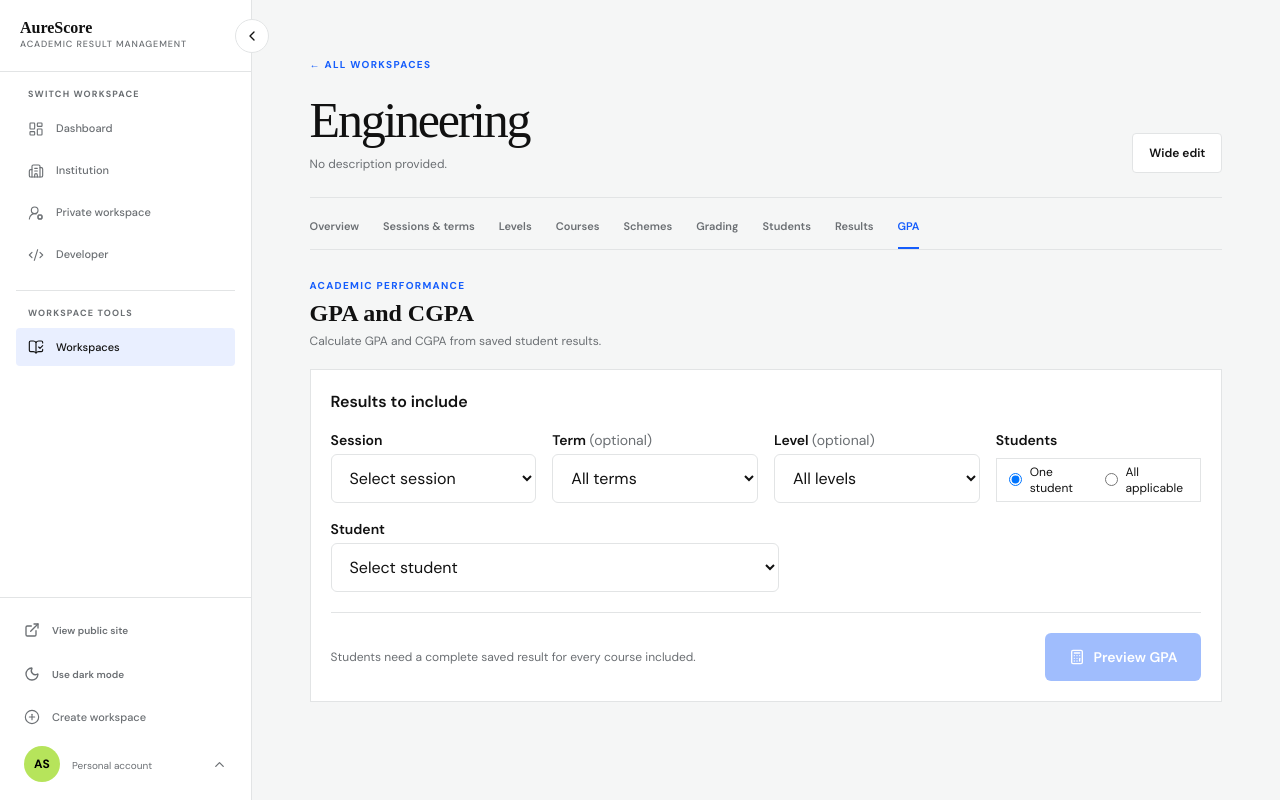
it: GPA workspace flow › handles a newly returned save preflight and a null-GPA no-results preview
The width and height of the screenshot is (1280, 800).
Step 1. Select "2026/2027" in the dropdown labelled "Session" → (433, 478), box [331,454,536,503]
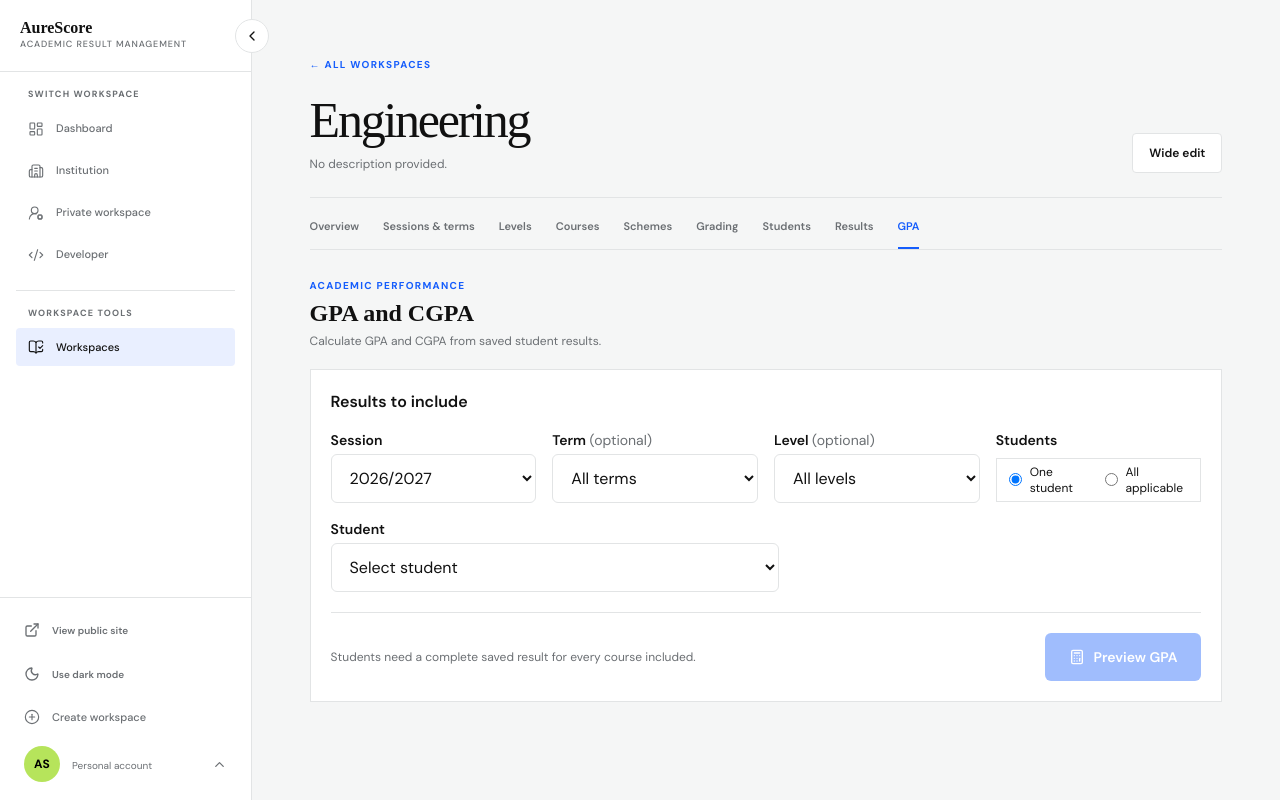
Step 2. Select "First Semester" in the dropdown labelled "Term (optional)" → (655, 478), box [552,454,758,503]
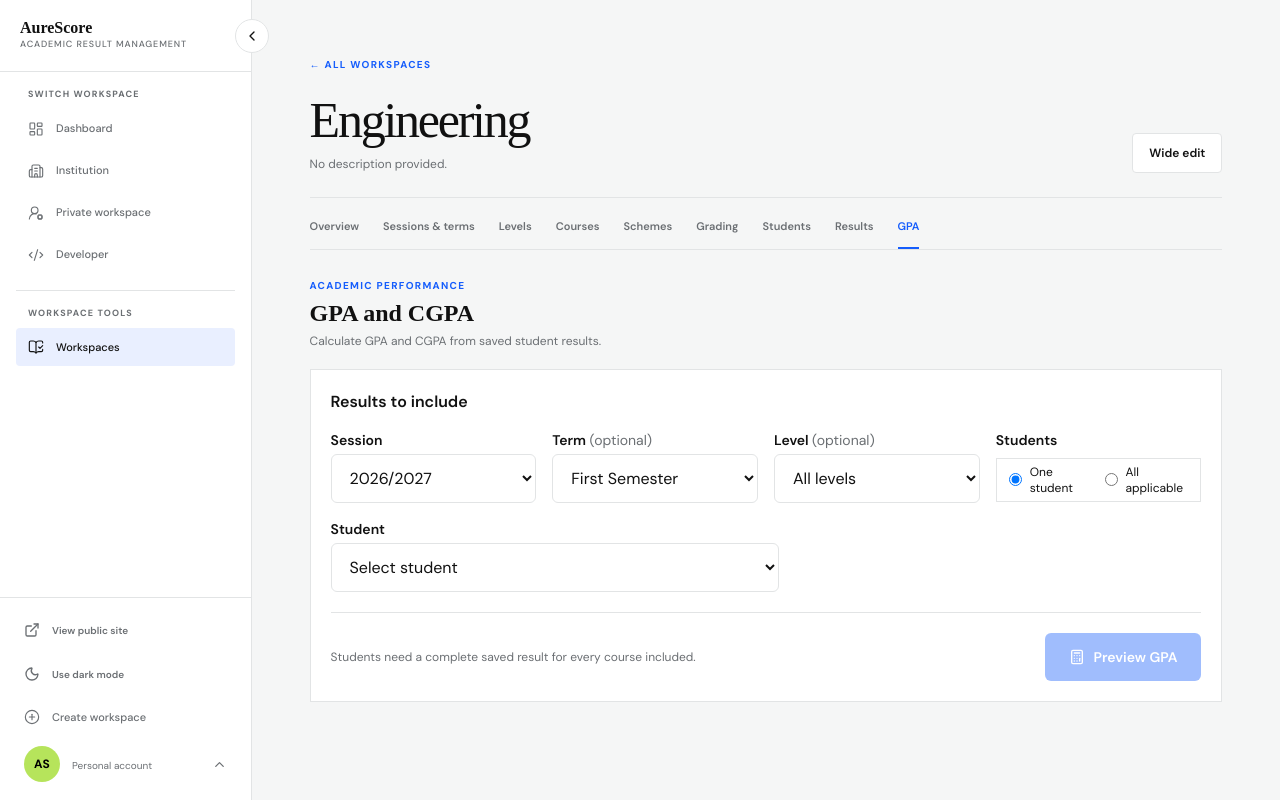
Step 3. Select "L400 — 400 Level" in the dropdown labelled "Level (optional)" → (877, 478), box [774,454,980,503]
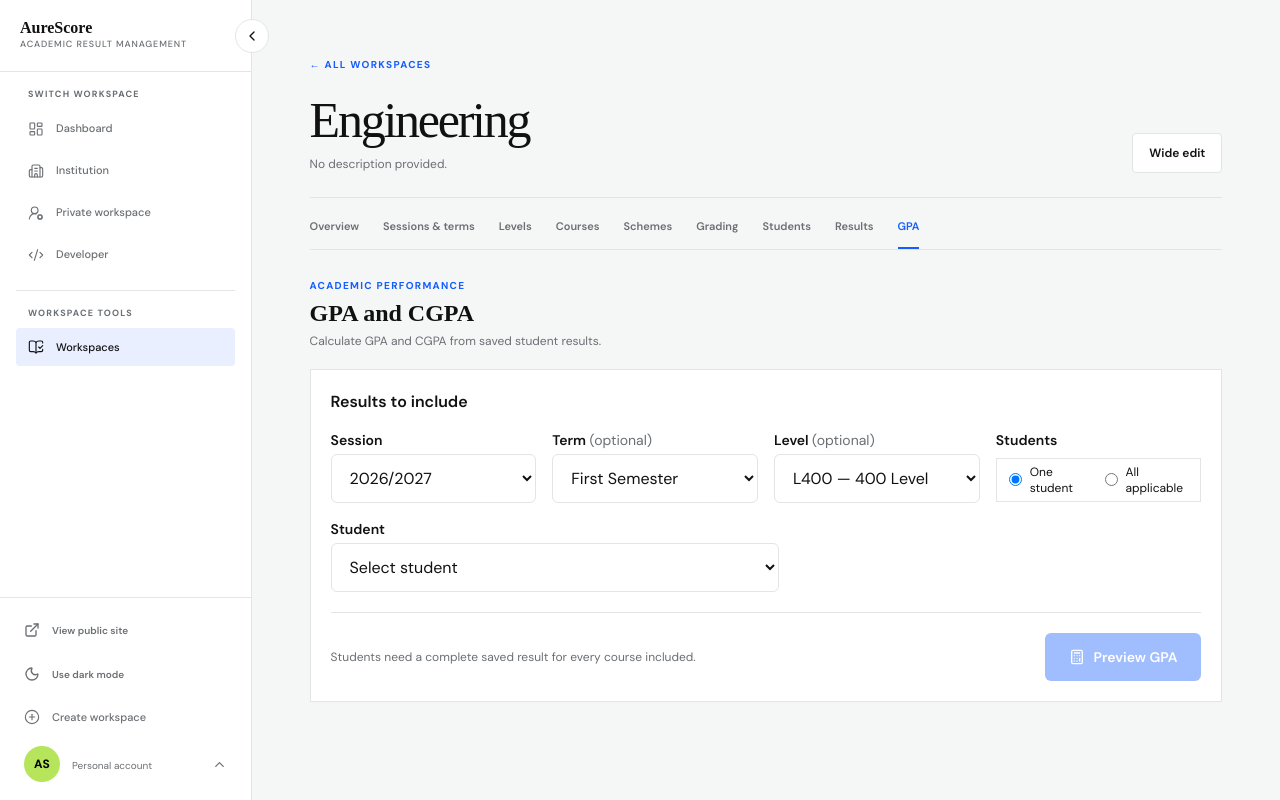
Step 4. Select "Ada Lovelace · ENG/001" in the dropdown labelled "Student" → (555, 567), box [331,543,779,592]
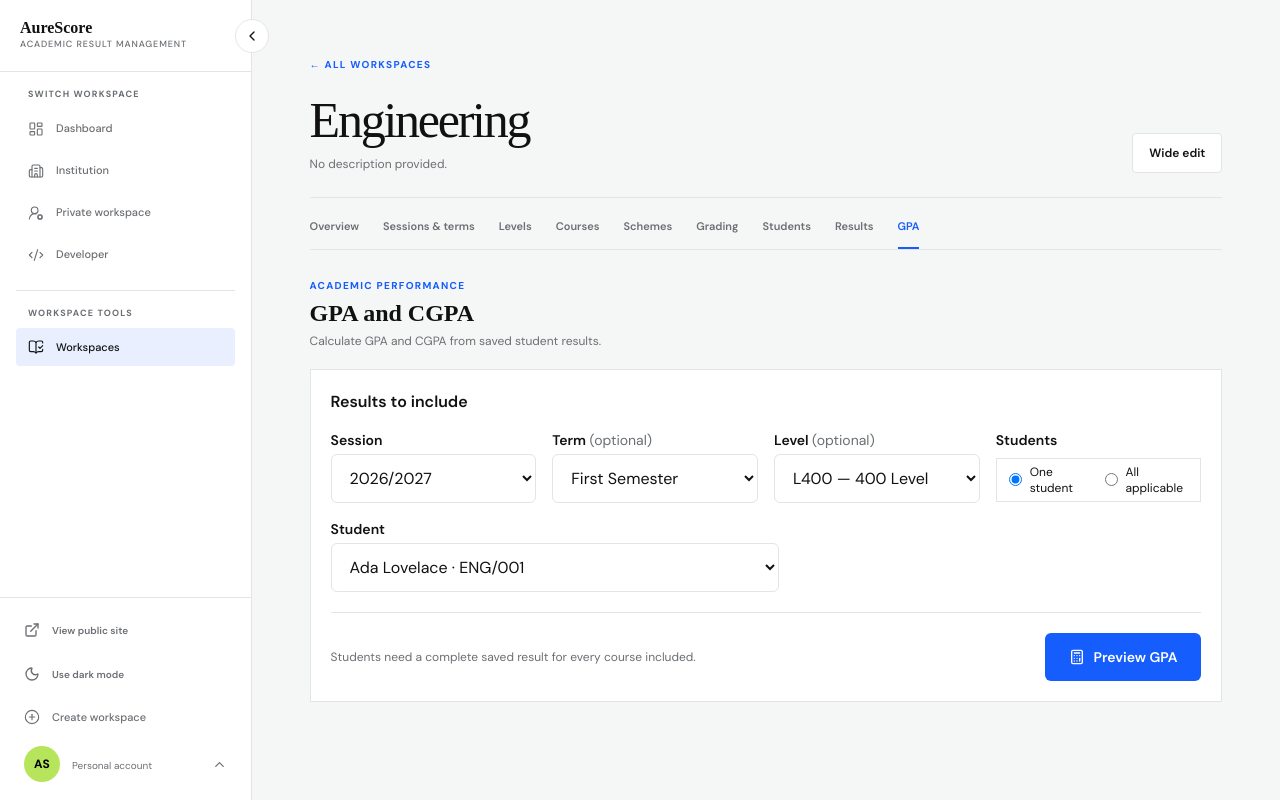
Step 5. Click the button "Preview GPA" → (1123, 657), box [1046,633,1201,681]
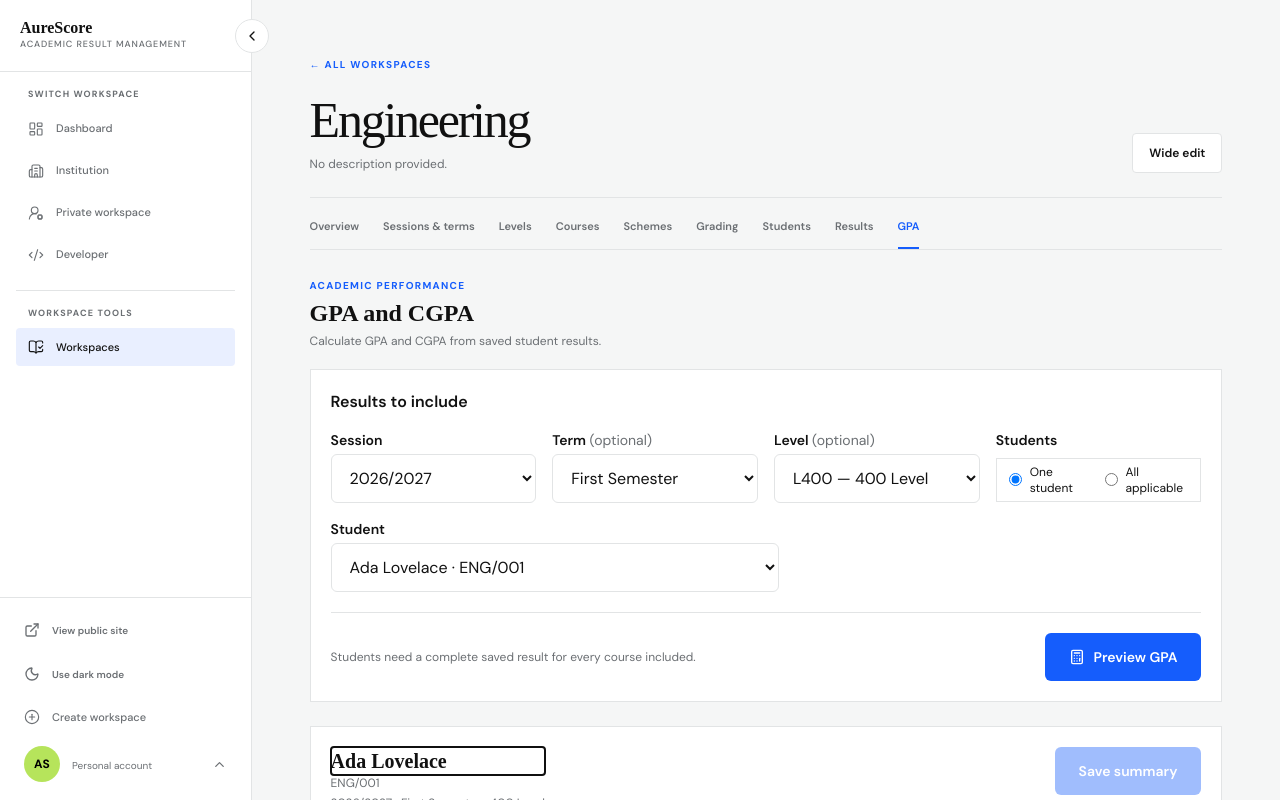
Now the button "Save summary" is disabled, box [1054,747,1201,795]
